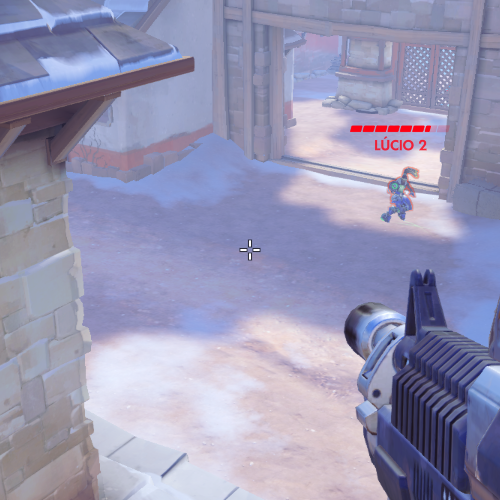hpbar: (350, 125, 450, 133)
